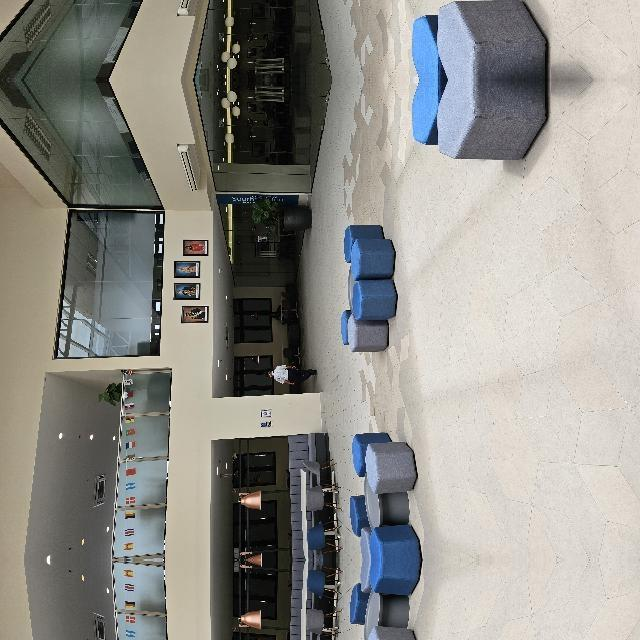obstacle: (396, 489, 479, 627), (396, 493, 479, 631), (0, 425, 142, 499), (208, 417, 334, 479), (0, 621, 142, 640)
person: (173, 344, 199, 398)
